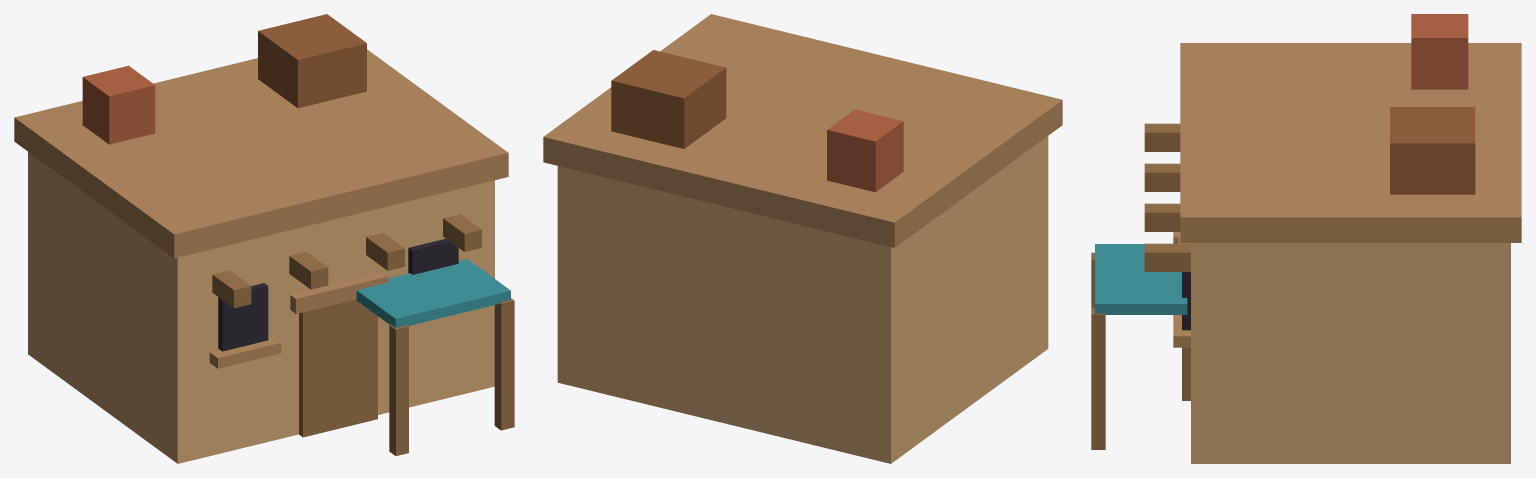
Rendered from AdobeHouse.glb.
3 views of the same model, side by side, from view 1: azimuth 30°, elevation 25°; view 2: azimuth 150°, elevation 25°; view 3: azimuth 270°, elevation 25° (orthographic). The views are drawn at different scales.
Visible parts, largest first — view 1: AdobeHouse; view 2: AdobeHouse; view 3: AdobeHouse.
Boxes of the visible parts, bbox=[...] form: AdobeHouse: bbox=[14, 14, 514, 463]; AdobeHouse: bbox=[543, 14, 1062, 463]; AdobeHouse: bbox=[1091, 14, 1521, 463].
Size of the model in its own units: 11.6 by 9.4 by 12.1.
Materials: 1 (1 with a texture image).
